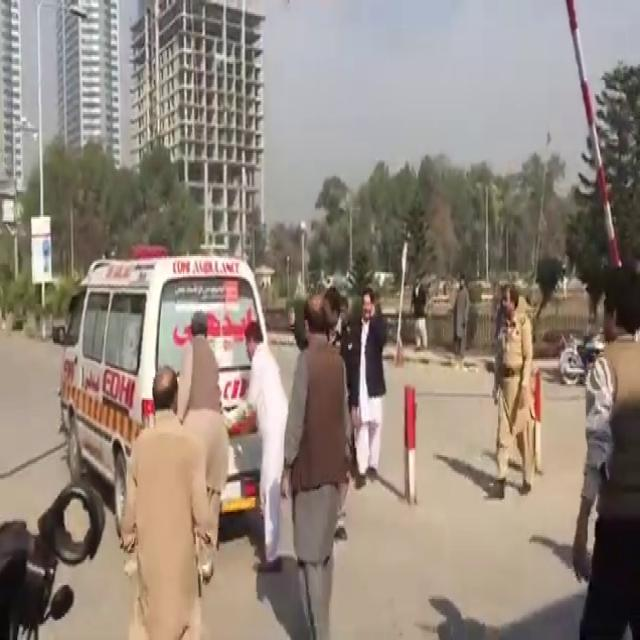ambulance: (56, 220, 287, 544)
